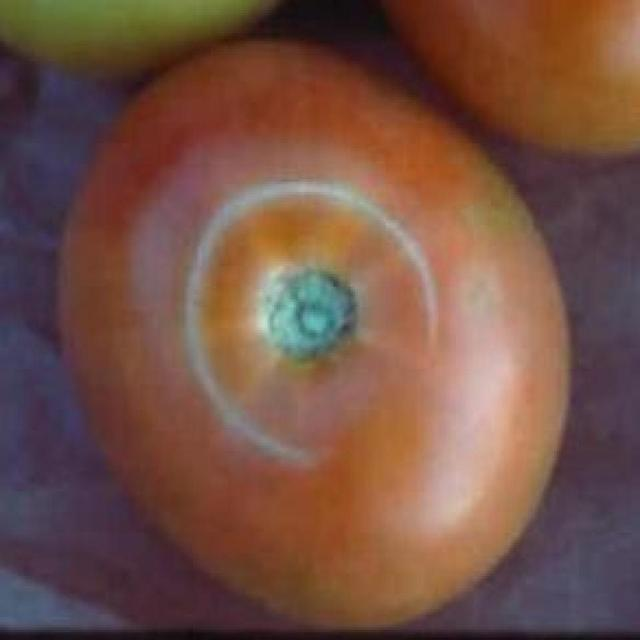Cracking Fruit: (119, 114, 300, 311)
